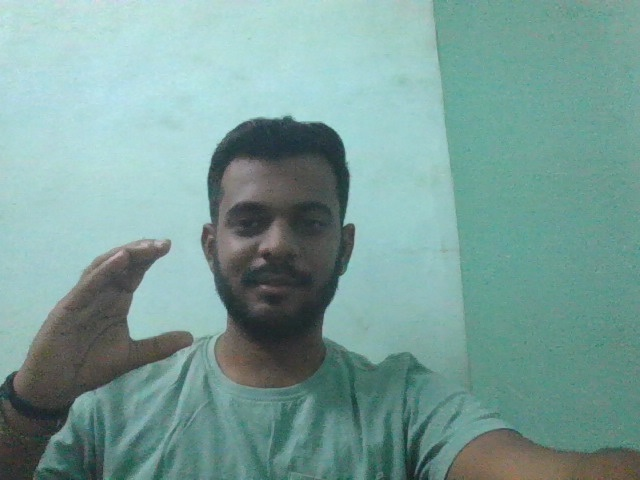no: (31, 235, 203, 411)
